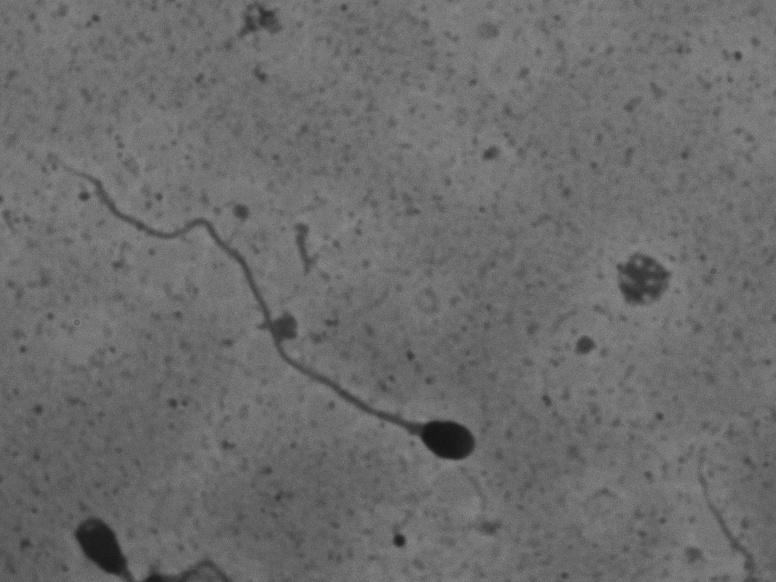Normal: (36, 154, 547, 486)
